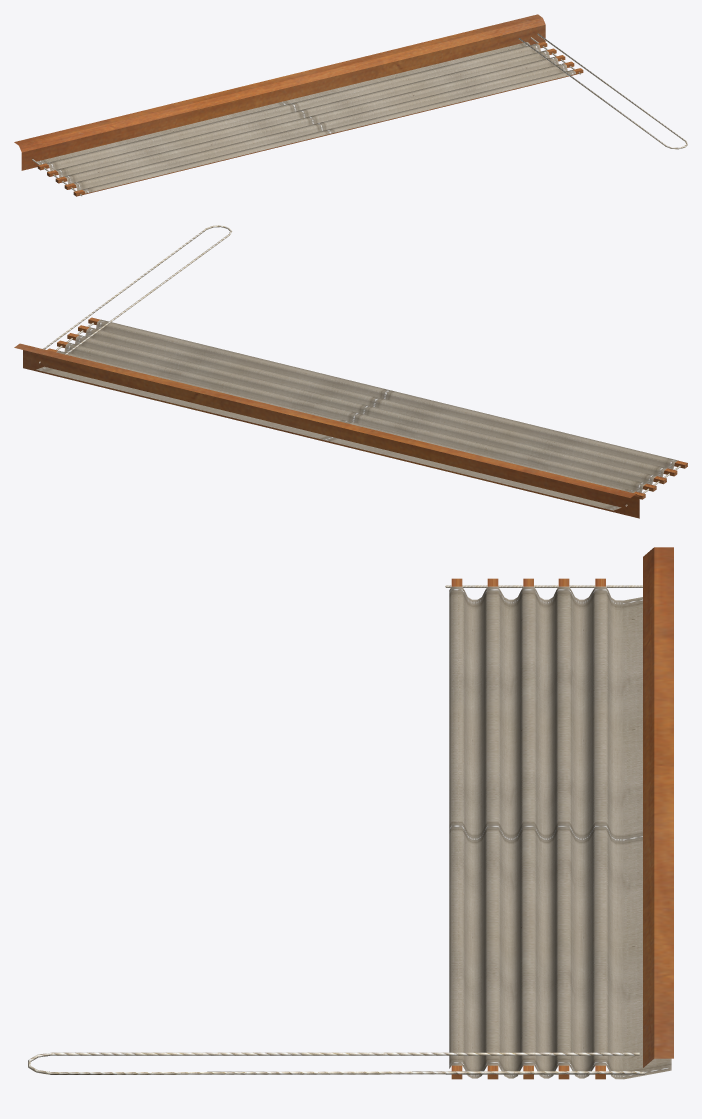
File: blinders_open.FBX
3 views of the same model, one above another, from view 1: azimuth 30°, elevation 25°; view 2: azimuth 150°, elevation 25°; view 3: azimuth 270°, elevation 25° (orthographic). The views are drawn at different scales.
Visible parts, largest first — view 1: blinders_open; view 2: blinders_open; view 3: blinders_open.
Boxes of the visible parts, x1=… form: blinders_open: x1=14, y1=14, x2=687, y2=196; blinders_open: x1=14, y1=225, x2=687, y2=518; blinders_open: x1=28, y1=547, x2=673, y2=1079.
Bounding box in the file's own units: 391 × 16.45 × 209.
